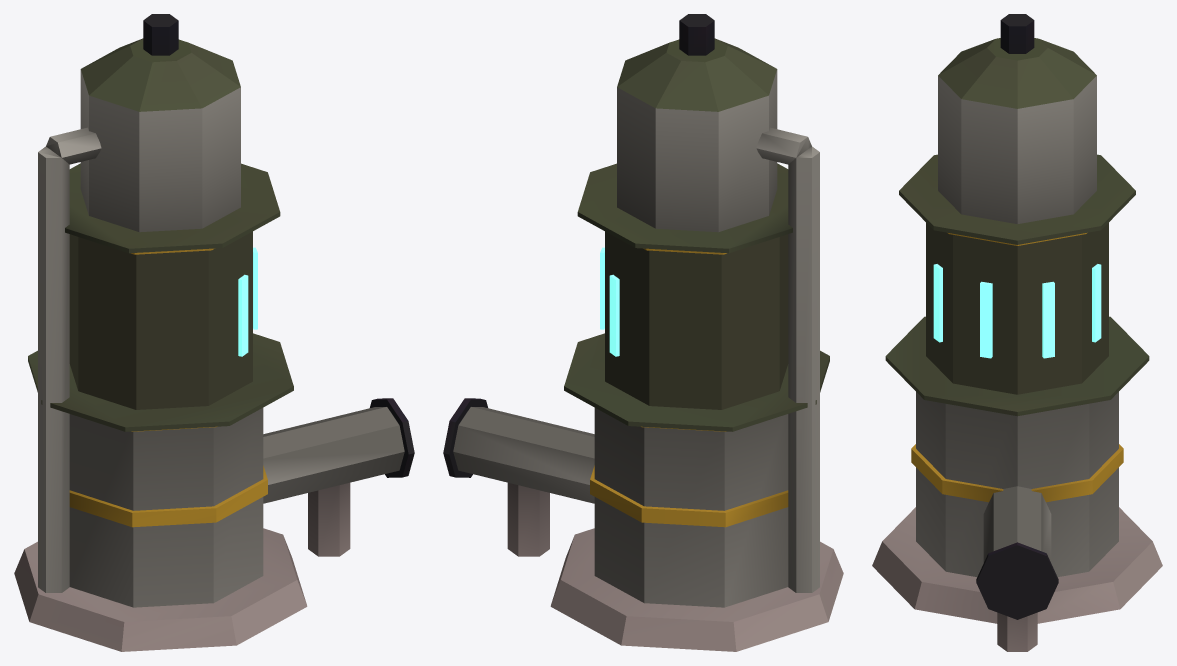
File: kit.dispersal-filtration-tower.lod2.glb
3 renders of one model, left to right at view 1: azimuth 30°, elevation 25°; view 2: azimuth 150°, elevation 25°; view 3: azimuth 270°, elevation 25°, orthographic. The views are drawn at different scales.
Parts seen in each view (by area): view 1: body; view 2: body; view 3: body.
Boxes of the visible parts, left/top/right/bottom form: body: left=14, top=14, right=414, bottom=651; body: left=443, top=14, right=843, bottom=651; body: left=872, top=14, right=1162, bottom=651.
Size of the model in its own units: 11.9 by 17.8 by 8.6.
